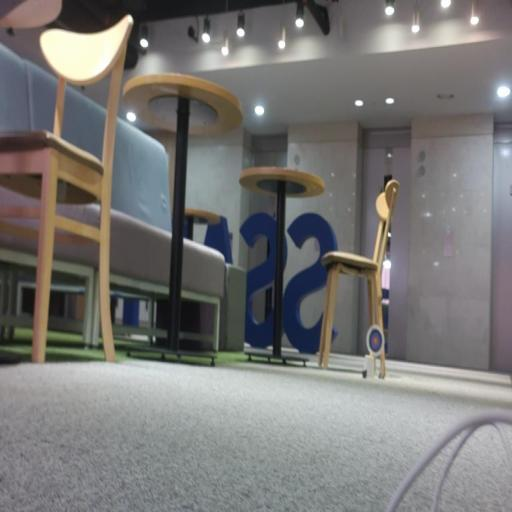target: (366, 325, 384, 356)
